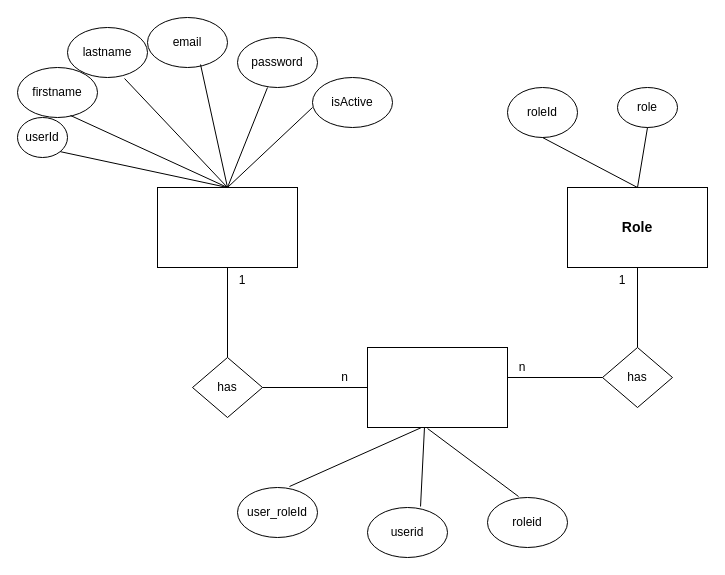
Image size: 725x575. Some labels were removed from this diagram. The shapes that lost their labels are listed below. From the top down, each one's centre as x and y in pixels, then its label:
At pixel 227 227: "User".
At pixel 437 387: "User_Role".
